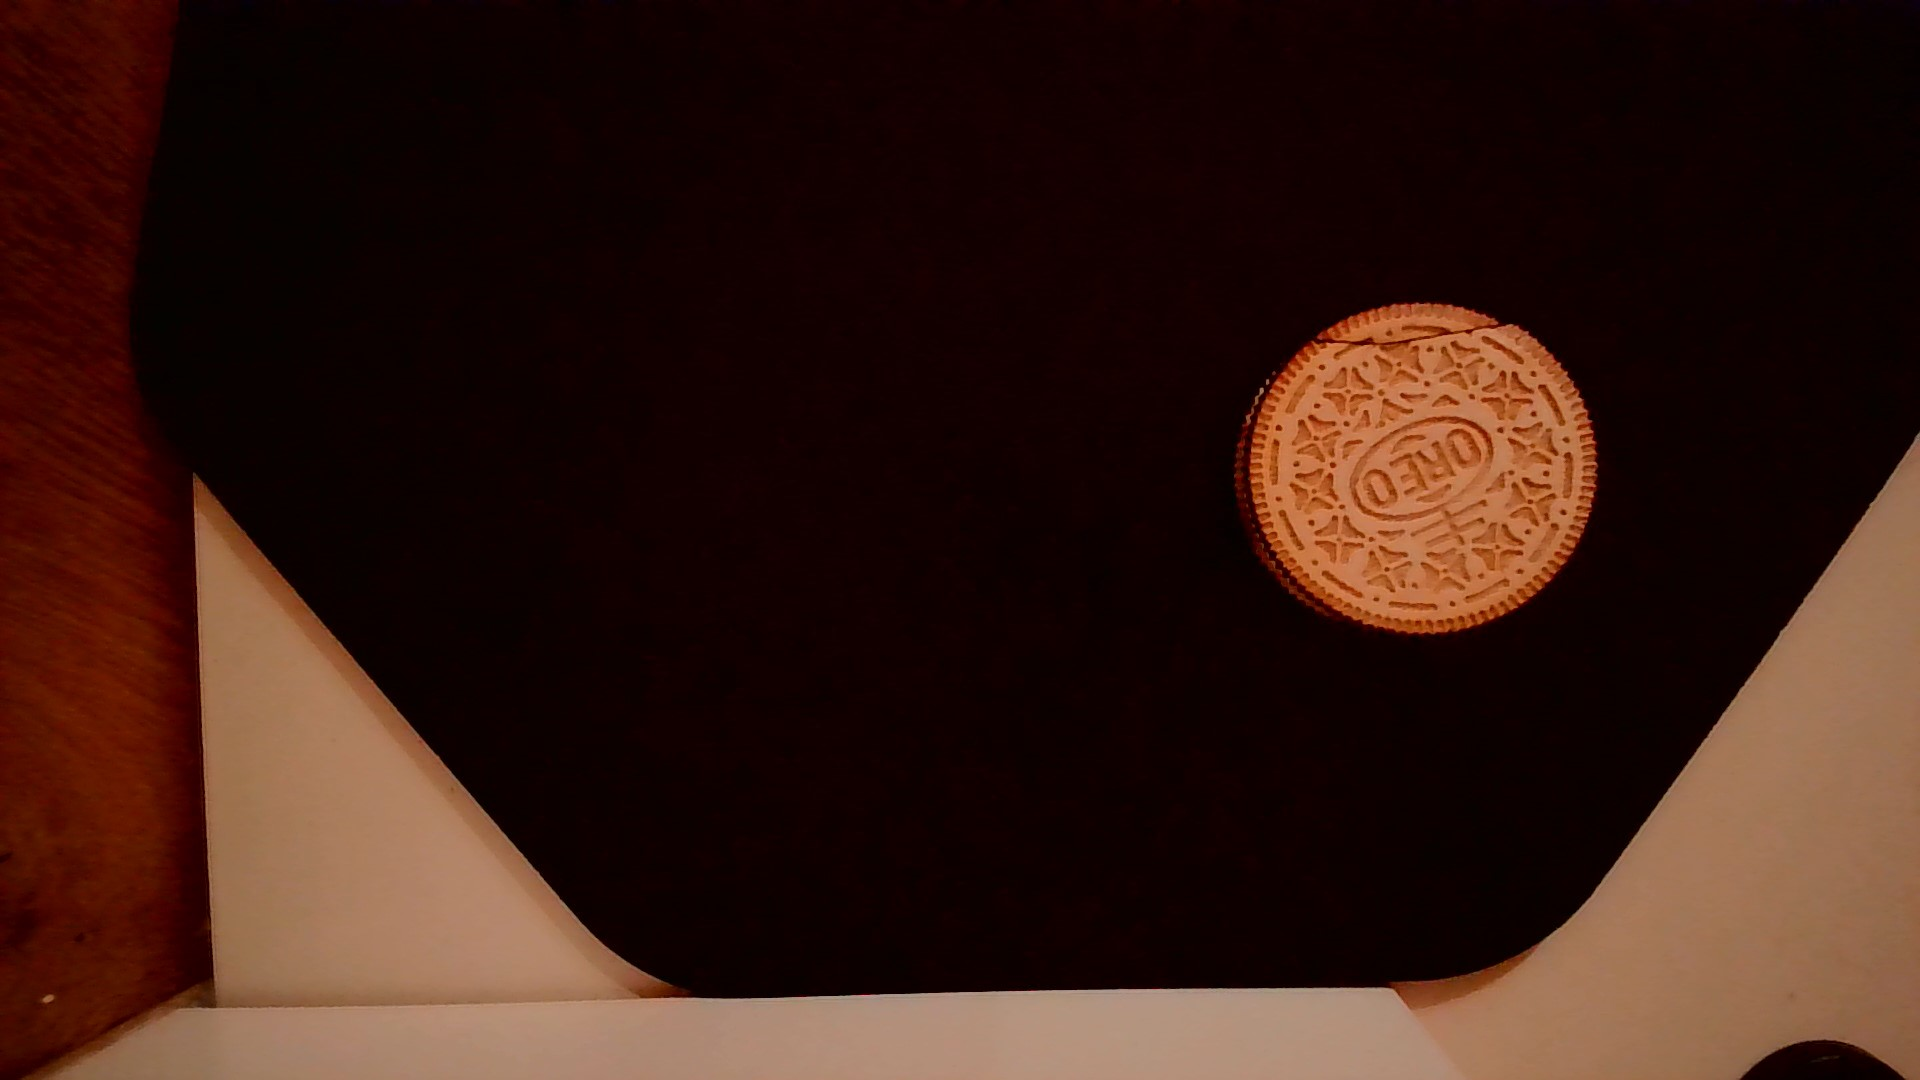Fissure: (1300, 301, 1511, 353)
Oréo: (1222, 291, 1604, 647)
